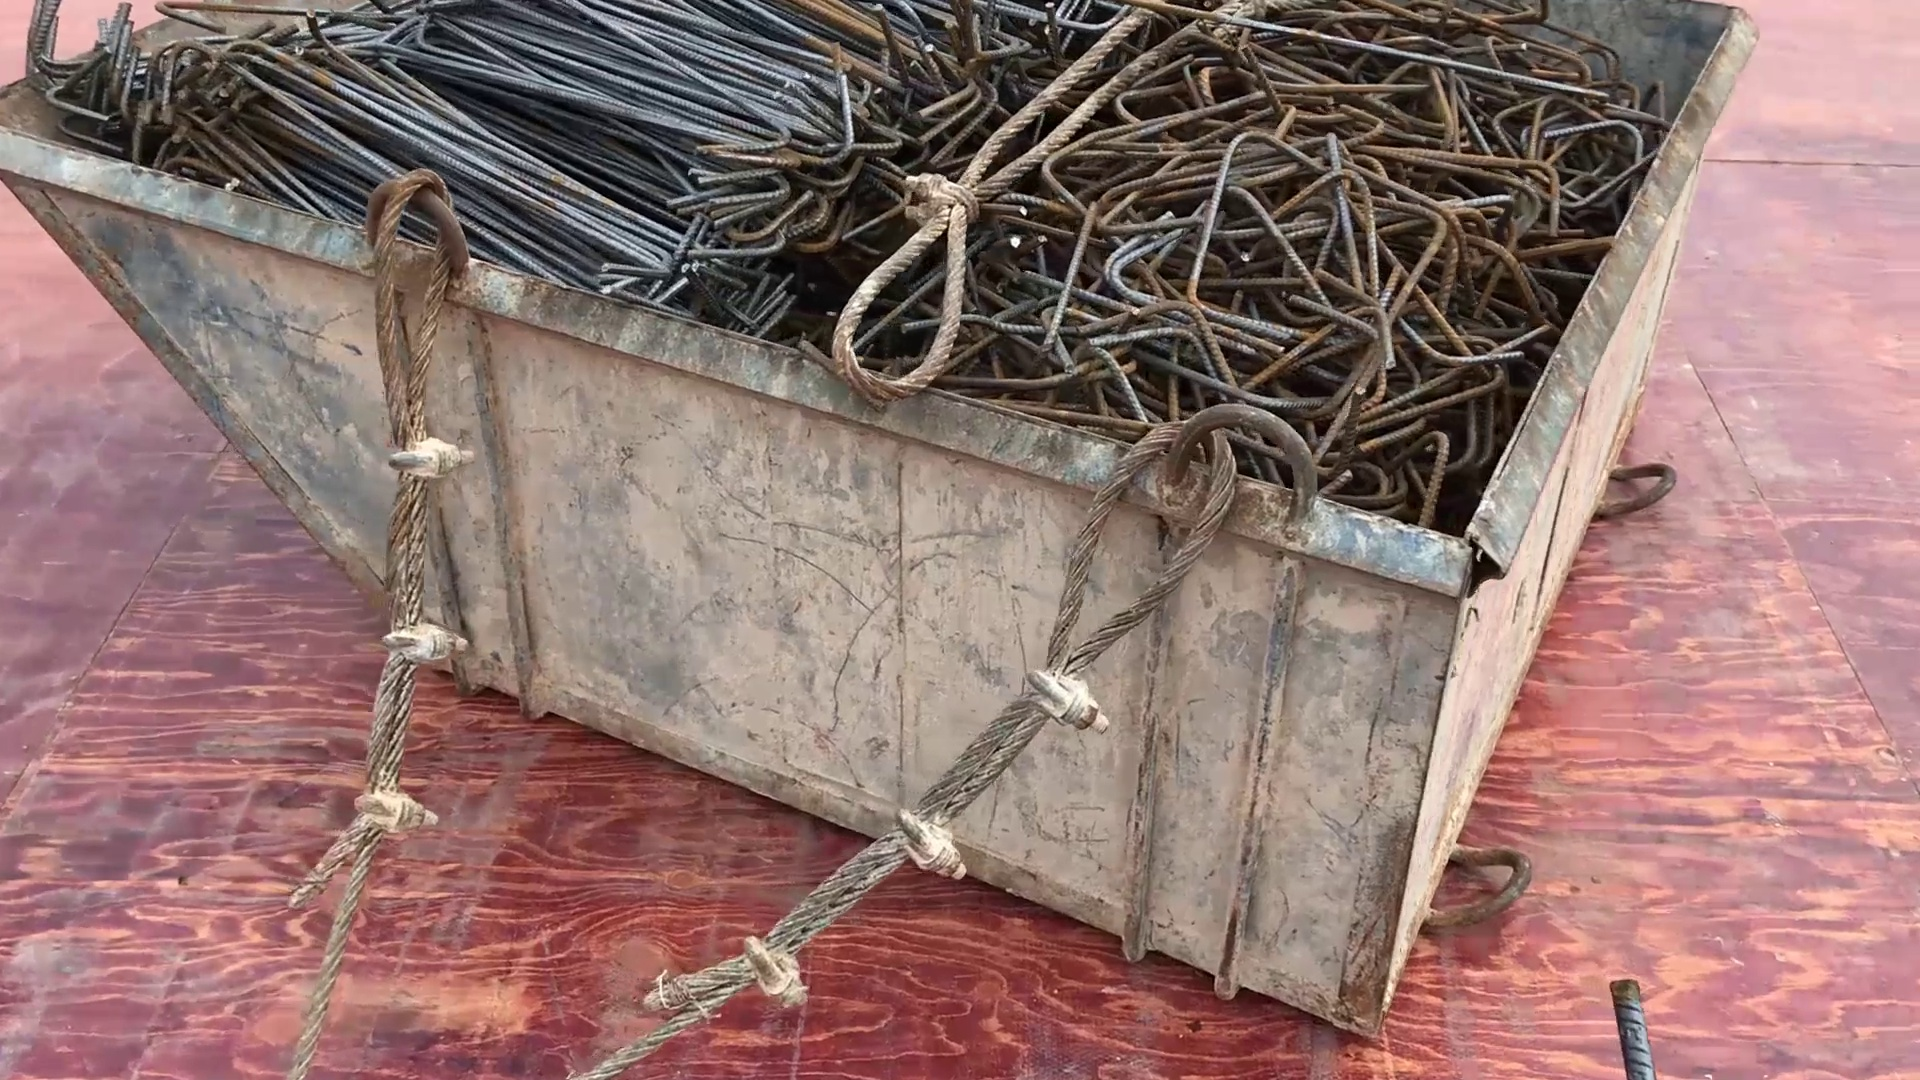hopper: (15, 15, 1784, 1036)
